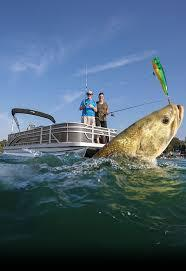fishing boat: (0, 69, 121, 161)
